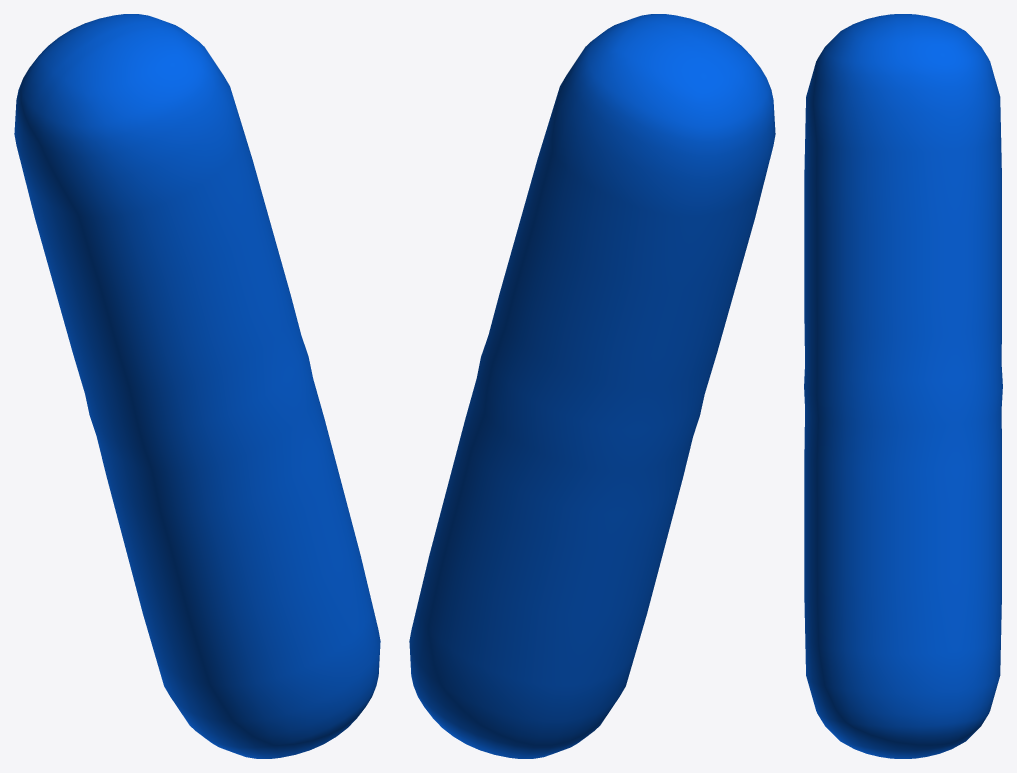
3 views of the same model, side by side, from view 1: azimuth 30°, elevation 25°; view 2: azimuth 150°, elevation 25°; view 3: azimuth 270°, elevation 25° (orthographic). The views are drawn at different scales.
Parts seen in each view (by area): view 1: lv_3_9; view 2: lv_3_9; view 3: lv_3_9.
Part boxes in pixels (box(x1,y1,x2,y2)): lv_3_9: box(14, 14, 380, 758); lv_3_9: box(409, 14, 775, 758); lv_3_9: box(804, 14, 1002, 758).
Bounding box in the file's own units: 19.77 × 42.92 × 11.61.
